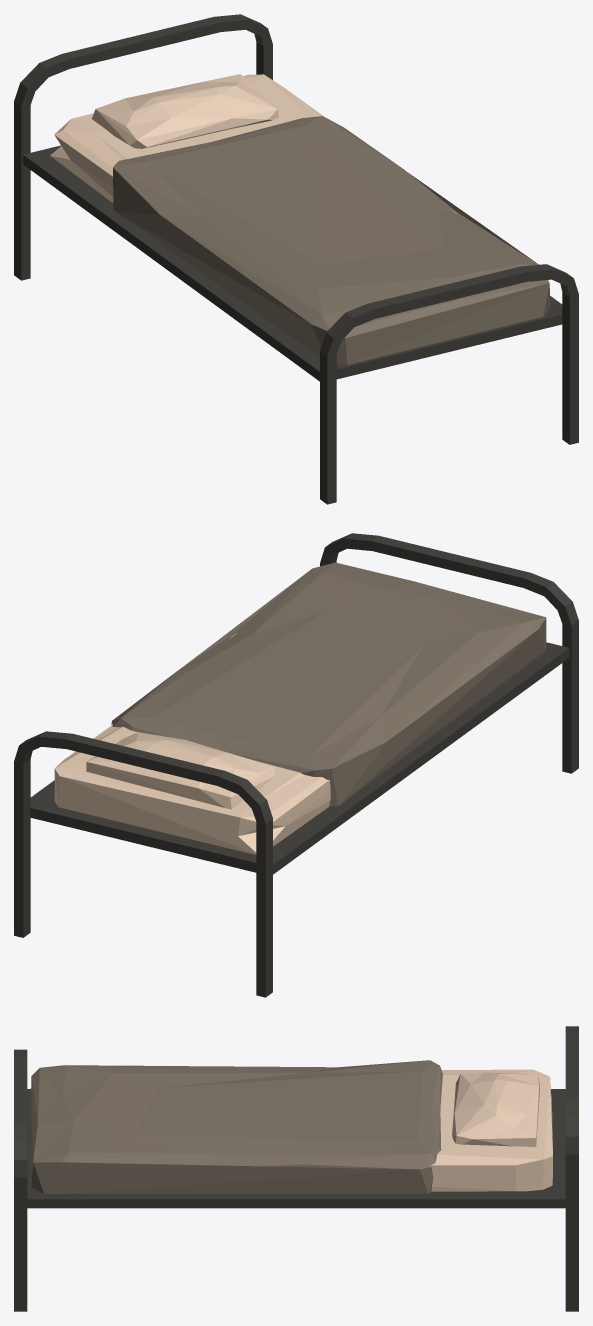
Rendered from Bed Single.glb.
3 views of the same model, one above another, from view 1: azimuth 30°, elevation 25°; view 2: azimuth 150°, elevation 25°; view 3: azimuth 270°, elevation 25° (orthographic). The views are drawn at different scales.
Visible parts, largest first — view 1: Bed Single; view 2: Bed Single; view 3: Bed Single.
Boxes of the visible parts, <box> form: Bed Single: <box>14,14,578,504</box>; Bed Single: <box>14,533,578,997</box>; Bed Single: <box>14,1026,578,1311</box>.
Size of what is drawn, in the model's own units: 1.2 by 0.9545 by 2.58.
1 material, 1 textured.
